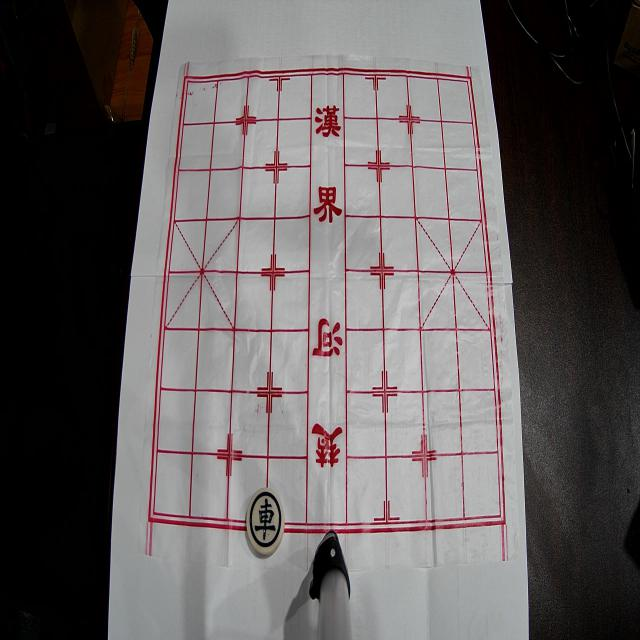black-chariot: (247, 488, 284, 555)
